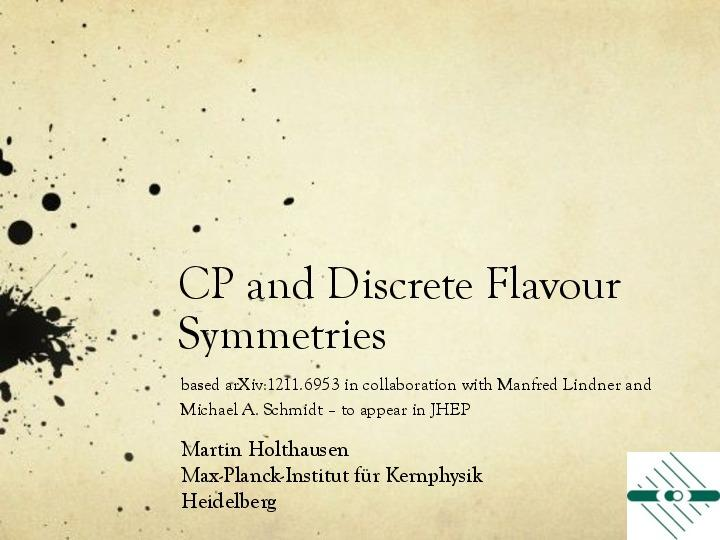paragraph: (155, 363, 666, 516)
title: (142, 232, 639, 371)
